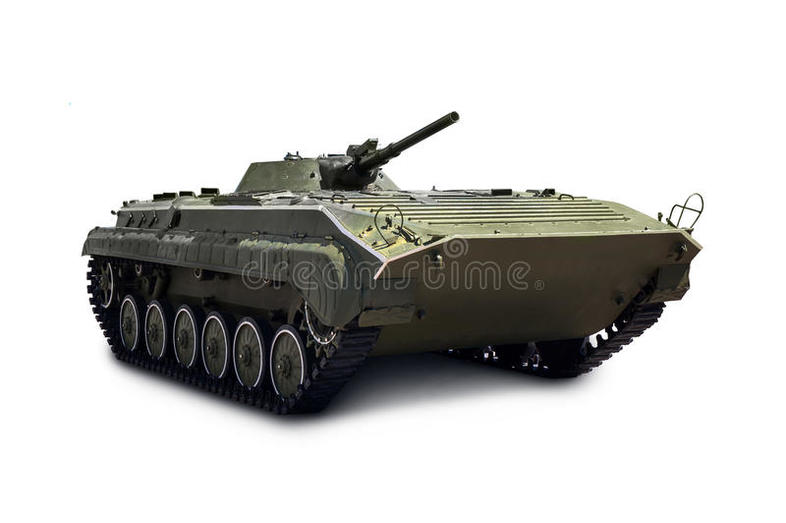bmp: (88, 119, 704, 419)
